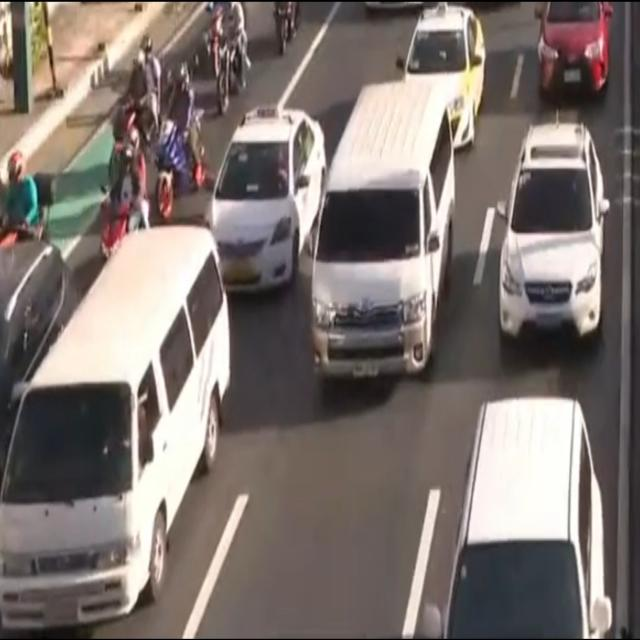Motorcycle: (102, 130, 155, 272), (156, 61, 196, 213), (113, 41, 159, 168), (0, 147, 57, 240), (207, 0, 254, 110)
SUV: (491, 119, 605, 345), (0, 242, 71, 432)
Sedan: (208, 104, 324, 293), (403, 9, 488, 145), (541, 0, 603, 102)
Van: (0, 231, 229, 624), (426, 401, 611, 640), (312, 78, 454, 386)
